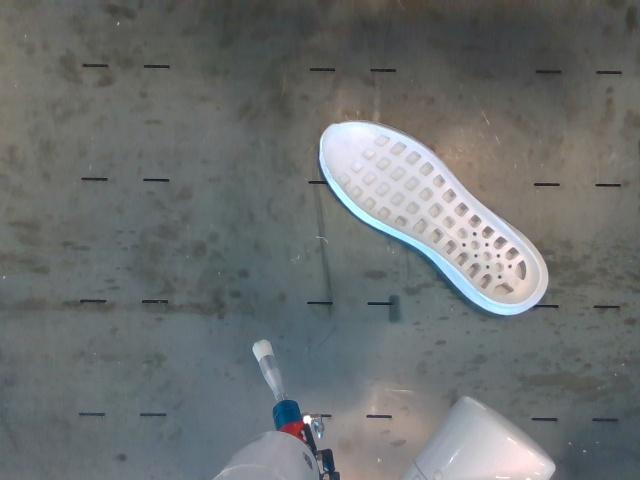shoes: (321, 123, 541, 305)
